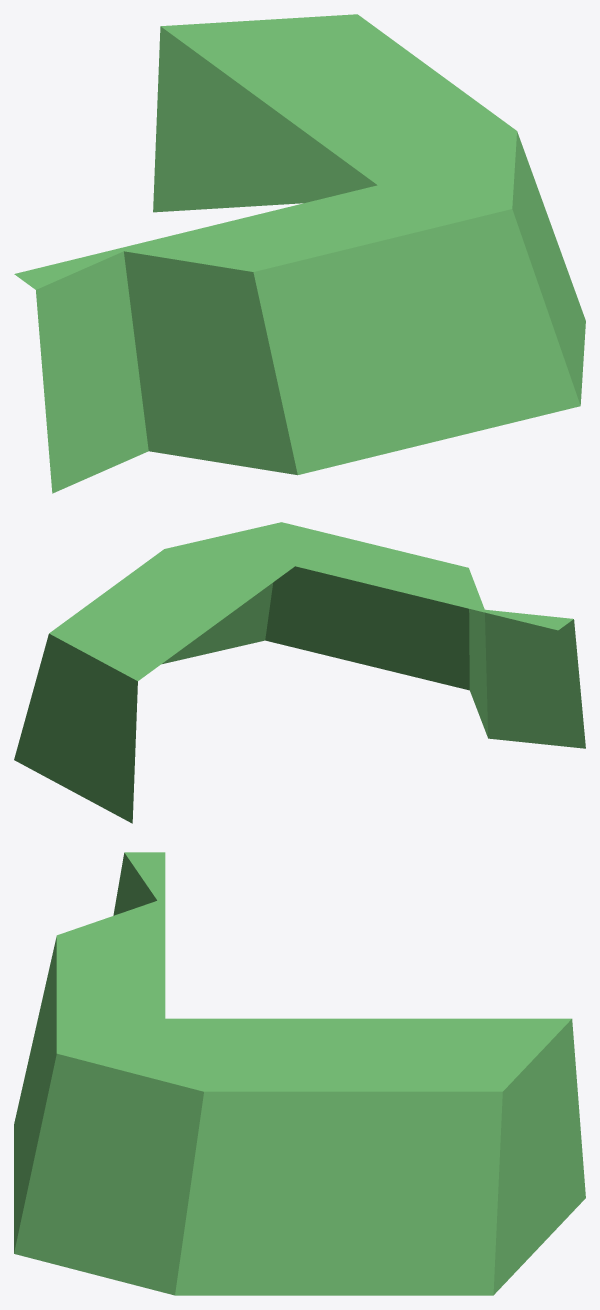
The model's file is x_ZT3_block_30_1_rmstrd.fbx.
3 renders of one model, top to bottom at view 1: azimuth 30°, elevation 25°; view 2: azimuth 150°, elevation 25°; view 3: azimuth 270°, elevation 25°, orthographic. The views are drawn at different scales.
Parts seen in each view (by area): view 1: x_ZT3_block_30_1_rmstrd1; view 2: x_ZT3_block_30_1_rmstrd1; view 3: x_ZT3_block_30_1_rmstrd1.
Boxes of the visible parts, x1=… form: x_ZT3_block_30_1_rmstrd1: x1=14, y1=14, x2=585, y2=493; x_ZT3_block_30_1_rmstrd1: x1=14, y1=522, x2=585, y2=823; x_ZT3_block_30_1_rmstrd1: x1=14, y1=852, x2=585, y2=1295.
Bounding box in the file's own units: 7.62 × 2.42 × 6.98.
